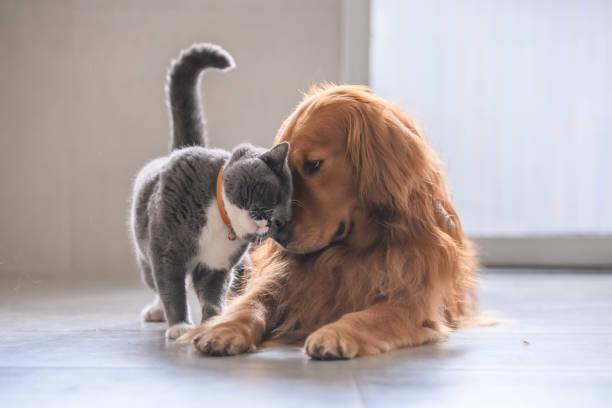kedo: (131, 43, 293, 341)
